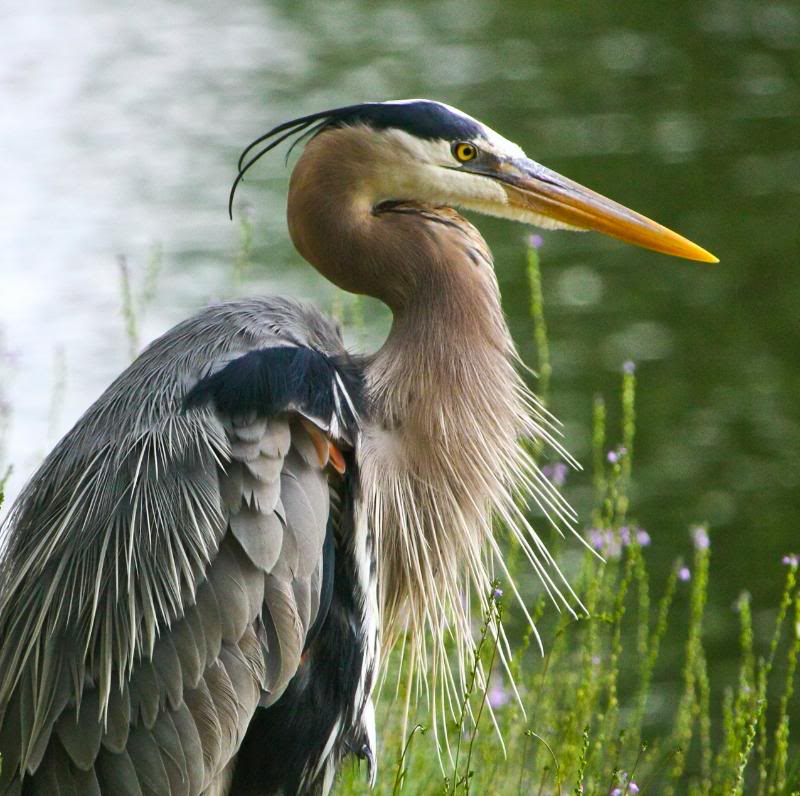heron: (8, 93, 725, 781)
